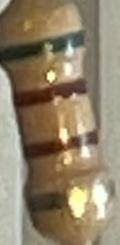Brown: (22, 124, 102, 165), (12, 74, 89, 109)
Green: (0, 30, 87, 68)
Side-Silver: (28, 176, 118, 215)
